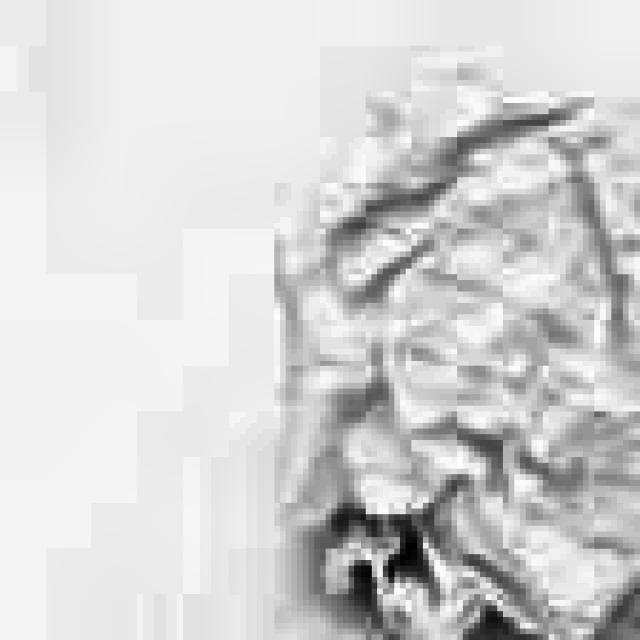paper: (240, 63, 640, 640)
